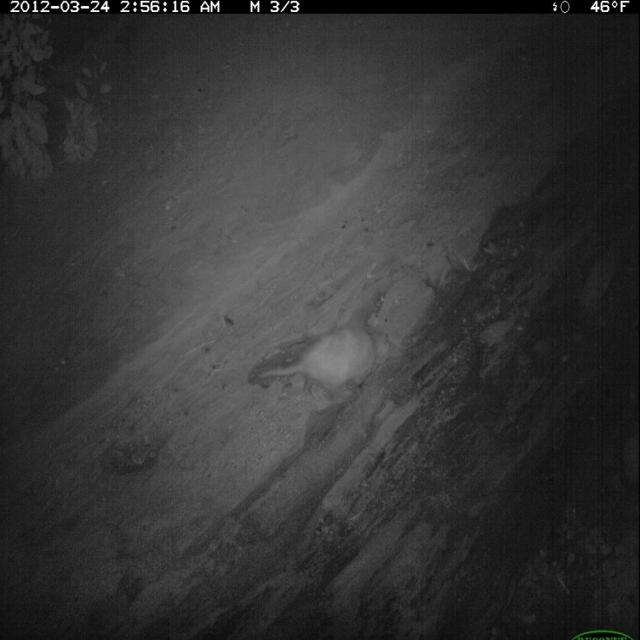opossum: (258, 320, 395, 409)
